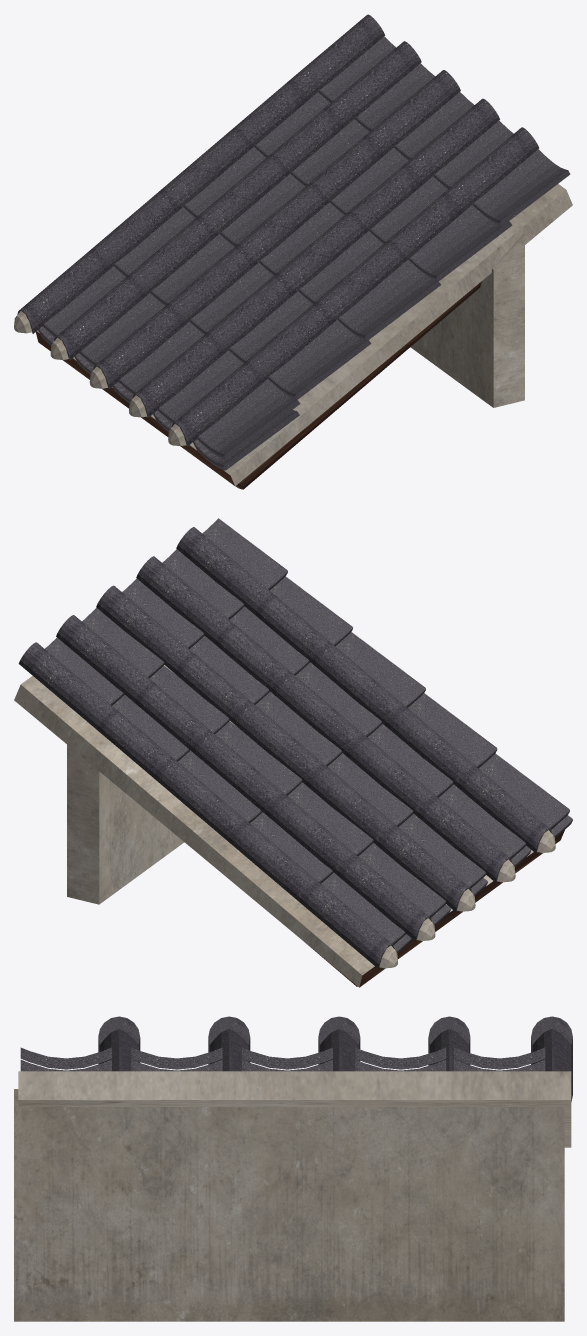
Rendered from SM_Roof_64.fbx.
3 renders of one model, top to bottom at view 1: azimuth 30°, elevation 25°; view 2: azimuth 150°, elevation 25°; view 3: azimuth 270°, elevation 25°, orthographic. The views are drawn at different scales.
Visible parts, largest first — view 1: SM_Roof_64; view 2: SM_Roof_64; view 3: SM_Roof_64.
Part boxes in pixels (x1=…): SM_Roof_64: x1=14, y1=14, x2=572, y2=489; SM_Roof_64: x1=14, y1=518, x2=572, y2=987; SM_Roof_64: x1=14, y1=1016, x2=572, y2=1321.
Size of the model in its own units: 238 by 222 by 167.
Materials: 4 (4 with a texture image).
